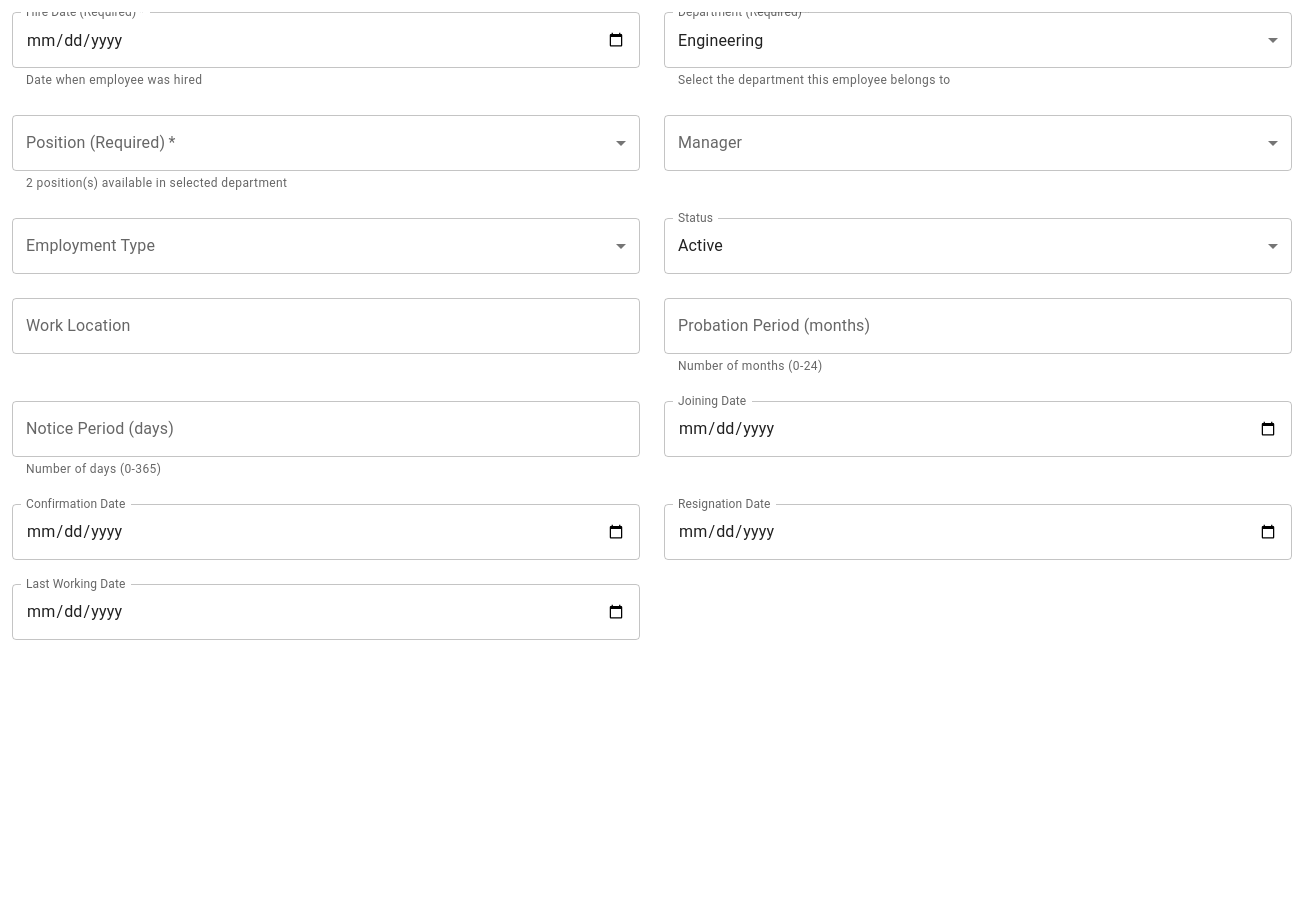
EmploymentInformationTab › Cascading Position Select › should filter positions by selected department
Press the mouse on the dropdown next to "Position (Required)": (326, 143) x1=12 y1=115 x2=640 y2=171
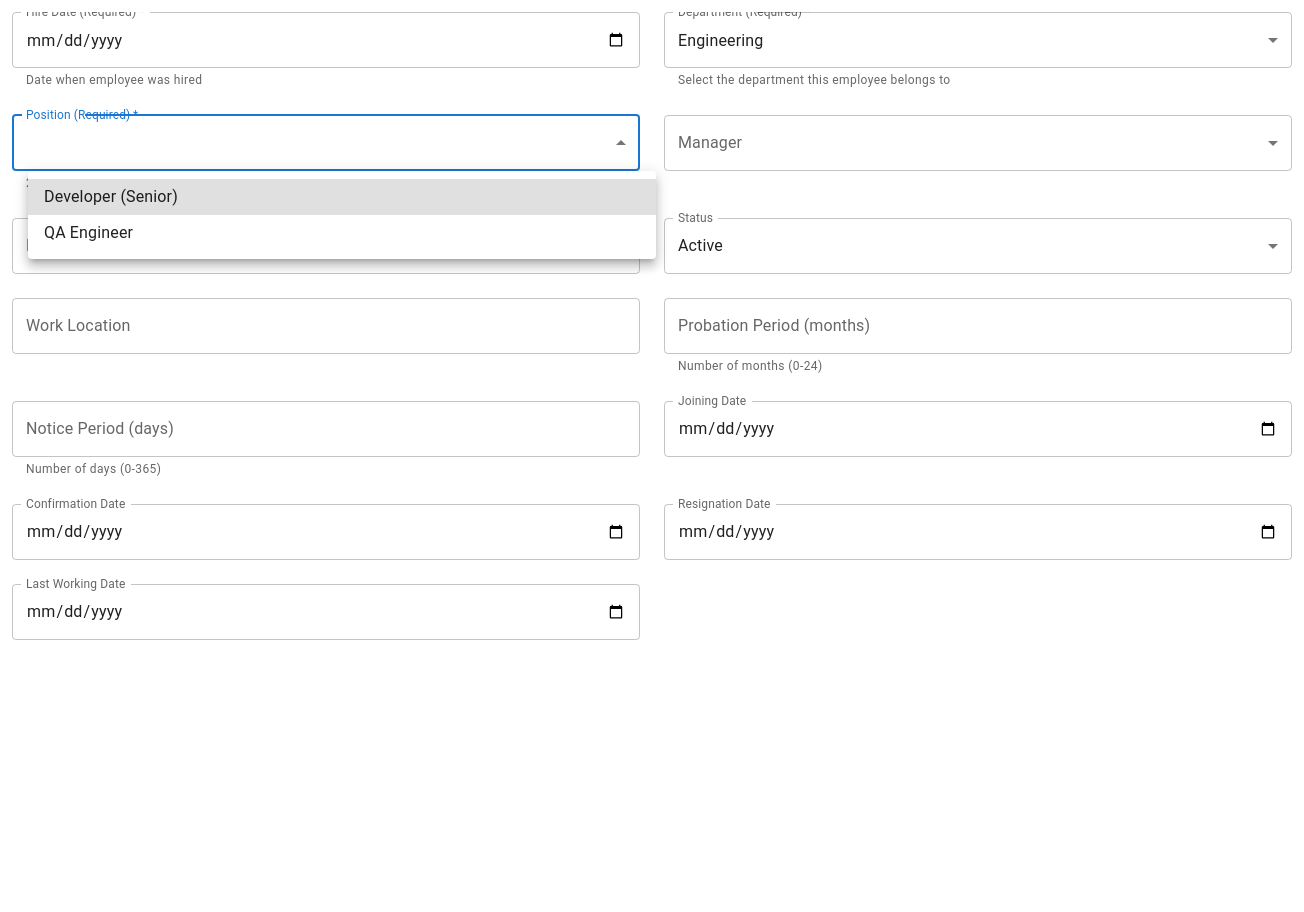
Expected: the option "Developer (Senior)" is shown, x1=28 y1=179 x2=656 y2=215
Expected: the option "QA Engineer" is shown, x1=44 y1=223 x2=133 y2=242
